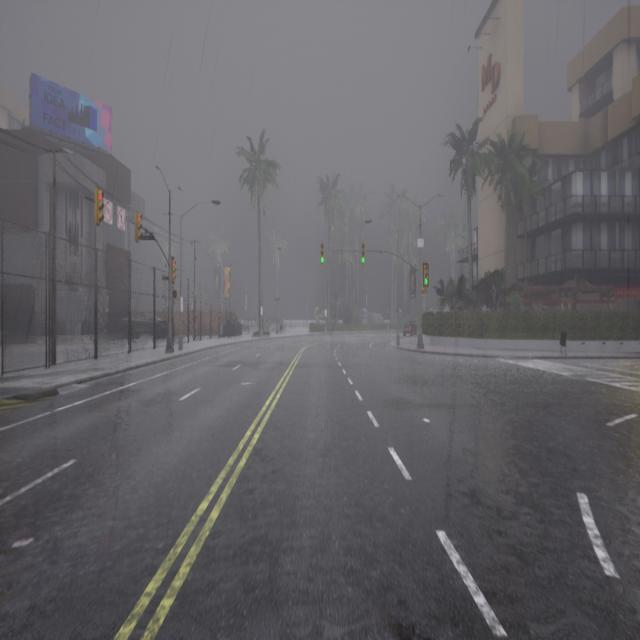6: (136, 210, 142, 222), (168, 261, 177, 269)
9: (420, 263, 432, 293), (135, 211, 143, 242), (170, 259, 178, 287), (317, 242, 325, 267), (360, 240, 364, 271)
bien_hieu_lenh: (419, 277, 428, 288), (360, 257, 366, 266), (319, 256, 324, 266)
